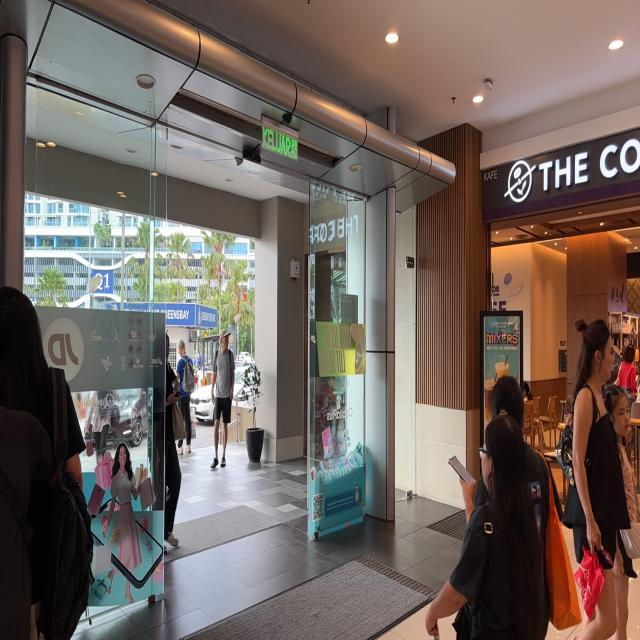door: (153, 121, 315, 603)
